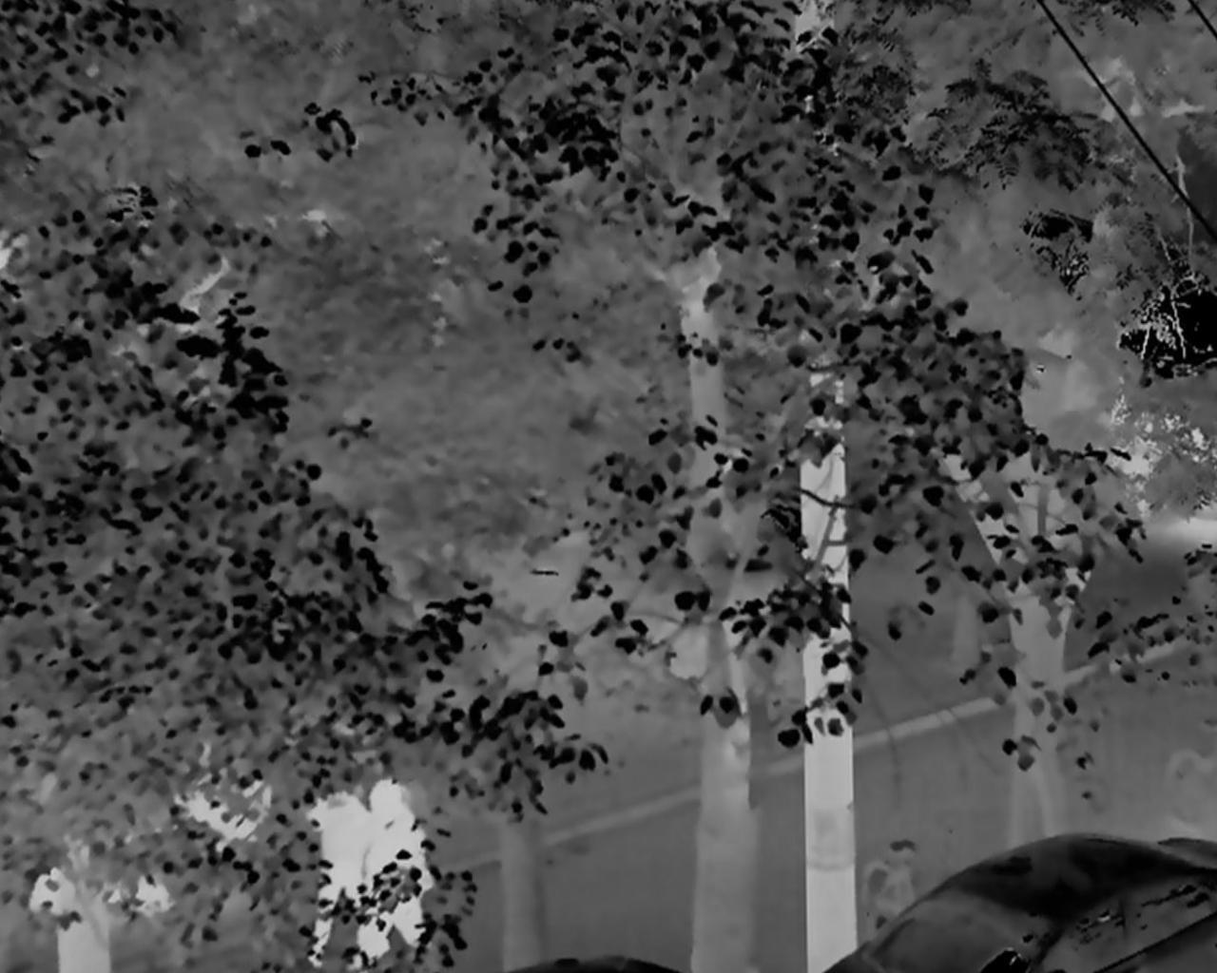person: (360, 780, 435, 973), (309, 781, 376, 973)
